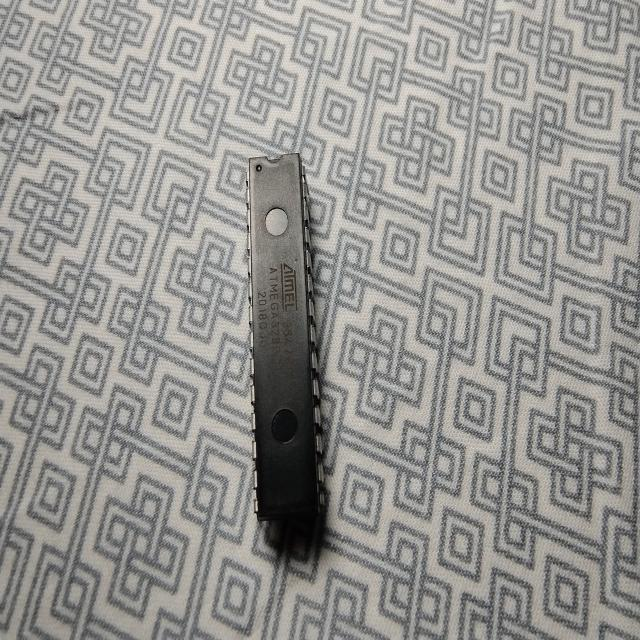atmega: (244, 150, 327, 528)
